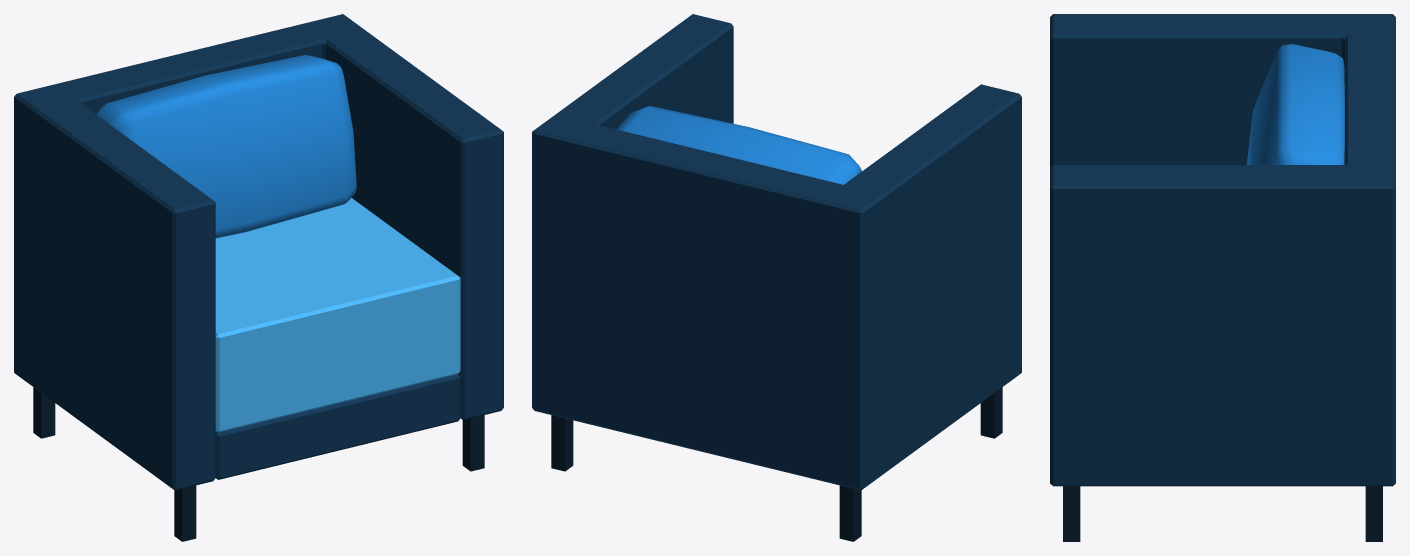
File: Prop_Sofa_06_B.fbx
3 views of the same model, side by side, from view 1: azimuth 30°, elevation 25°; view 2: azimuth 150°, elevation 25°; view 3: azimuth 270°, elevation 25° (orthographic). The views are drawn at different scales.
Parts seen in each view (by area): view 1: Prop_Sofa_06_B; view 2: Prop_Sofa_06_B; view 3: Prop_Sofa_06_B.
Boxes of the visible parts, x1,y1,x2,y2 form: Prop_Sofa_06_B: [14, 14, 503, 541]; Prop_Sofa_06_B: [532, 14, 1021, 541]; Prop_Sofa_06_B: [1050, 14, 1395, 541].
Size of the model in its own units: 89.78 by 89.32 by 75.58.
